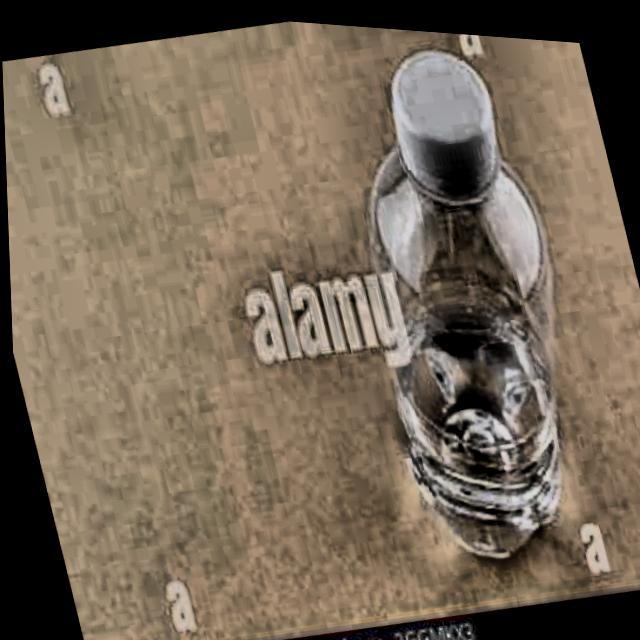Bottles: (302, 18, 640, 583)
